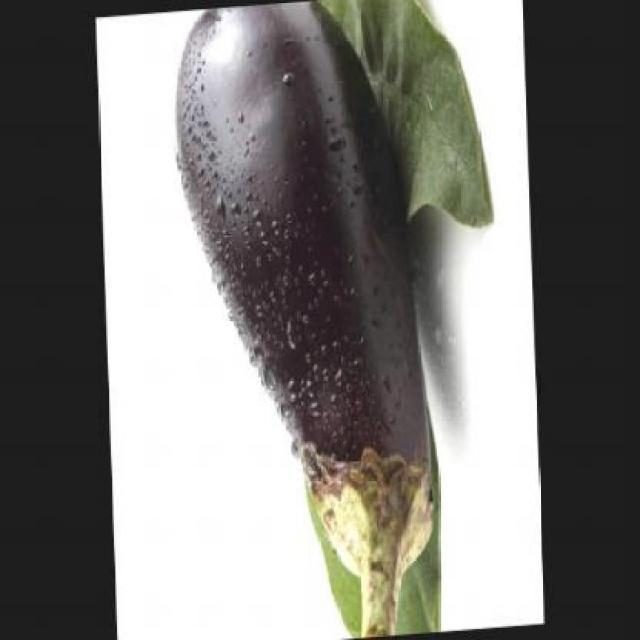eggplant: (169, 0, 441, 638)
